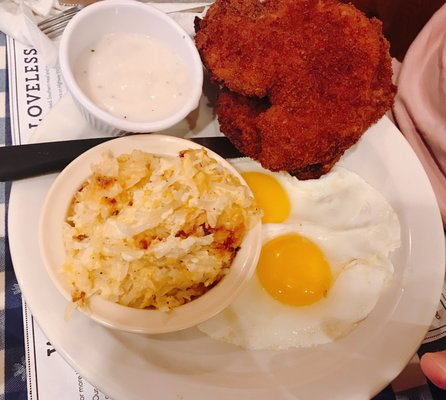sandwich: (0, 130, 125, 183)
sushi: (41, 134, 263, 335), (58, 0, 204, 134)
